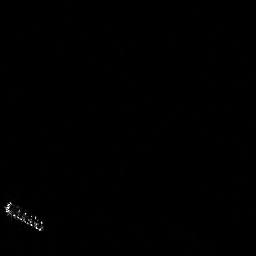ship: (3, 197, 49, 235)
